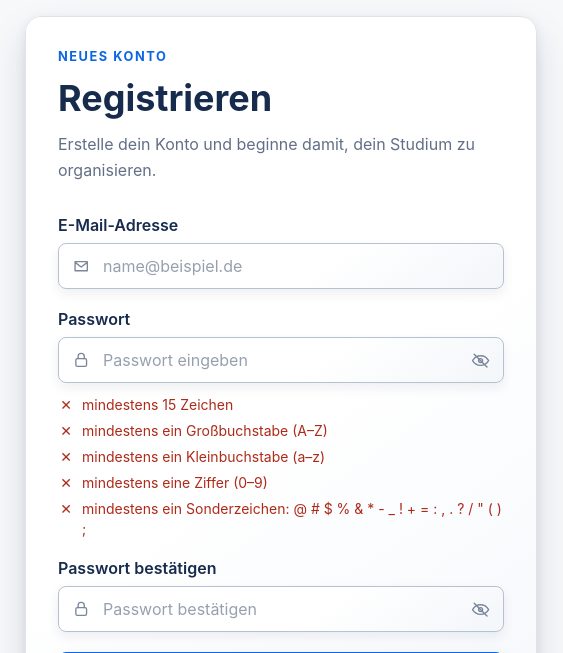
Scenario: RegisterView › updates the password requirements while typing
Expected: the number of list items with class "requirement-missing" is 5, top-left (60, 396), bottom-right (233, 413); top-left (60, 422), bottom-right (328, 439); top-left (60, 448), bottom-right (325, 465); top-left (60, 474), bottom-right (268, 491); top-left (58, 499), bottom-right (504, 538)
In the password field labelled "Passwort": (281, 360) top-left (58, 337), bottom-right (504, 383), type "Registration-Test-2026!"
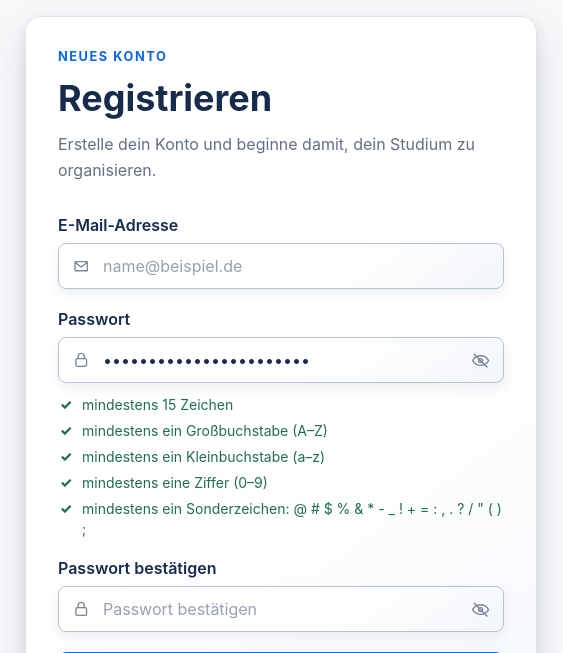
Expected: the number of list items with class "requirement-met" is 5, top-left (60, 396), bottom-right (233, 413); top-left (60, 422), bottom-right (328, 439); top-left (60, 448), bottom-right (325, 465); top-left (60, 474), bottom-right (268, 491); top-left (58, 499), bottom-right (504, 538)
